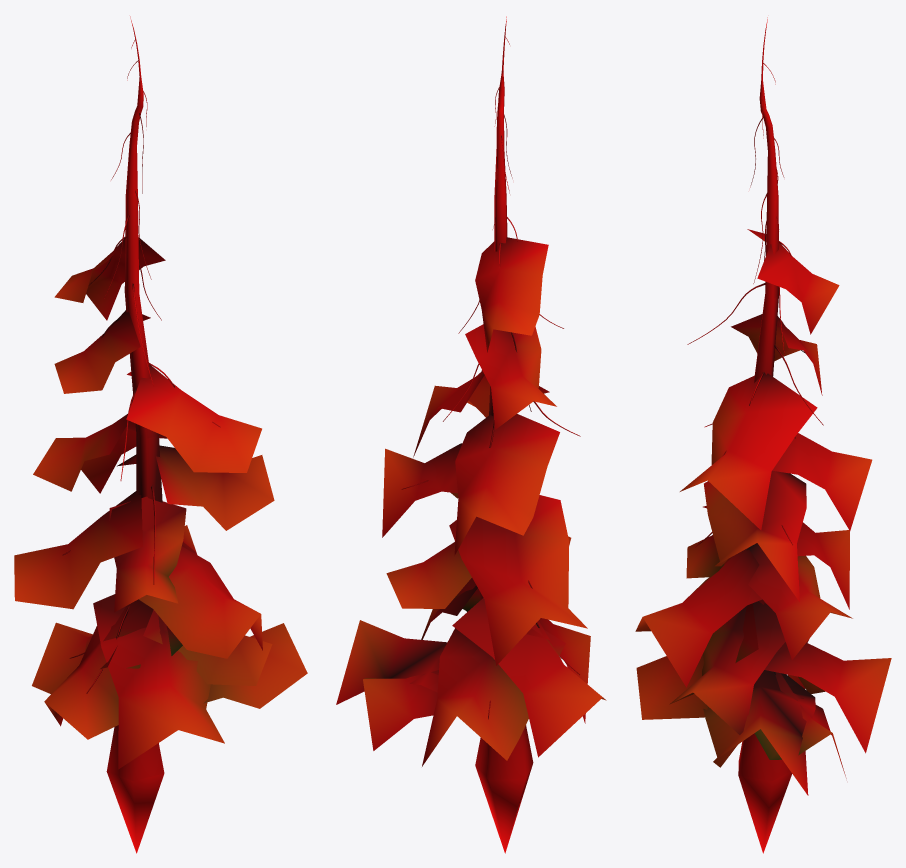
Rendered from SpruceTreeRHEWP_F.fbx.
3 views of the same model, side by side, from view 1: azimuth 30°, elevation 25°; view 2: azimuth 150°, elevation 25°; view 3: azimuth 270°, elevation 25° (orthographic).
Parts seen in each view (by area): view 1: STF_Leaves_LOD0, STF_Bark_LOD0; view 2: STF_Leaves_LOD0, STF_Bark_LOD0; view 3: STF_Leaves_LOD0, STF_Bark_LOD0.
Boxes of the visible parts, bbox=[...] form: STF_Leaves_LOD0: bbox=[14, 236, 307, 769]; STF_Bark_LOD0: bbox=[62, 16, 220, 853]; STF_Leaves_LOD0: bbox=[336, 237, 606, 766]; STF_Bark_LOD0: bbox=[401, 16, 580, 853]; STF_Leaves_LOD0: bbox=[635, 229, 891, 795]; STF_Bark_LOD0: bbox=[687, 17, 823, 853].
Size of what is drawn, in the model's own units: 6.7 by 21.65 by 6.01.
